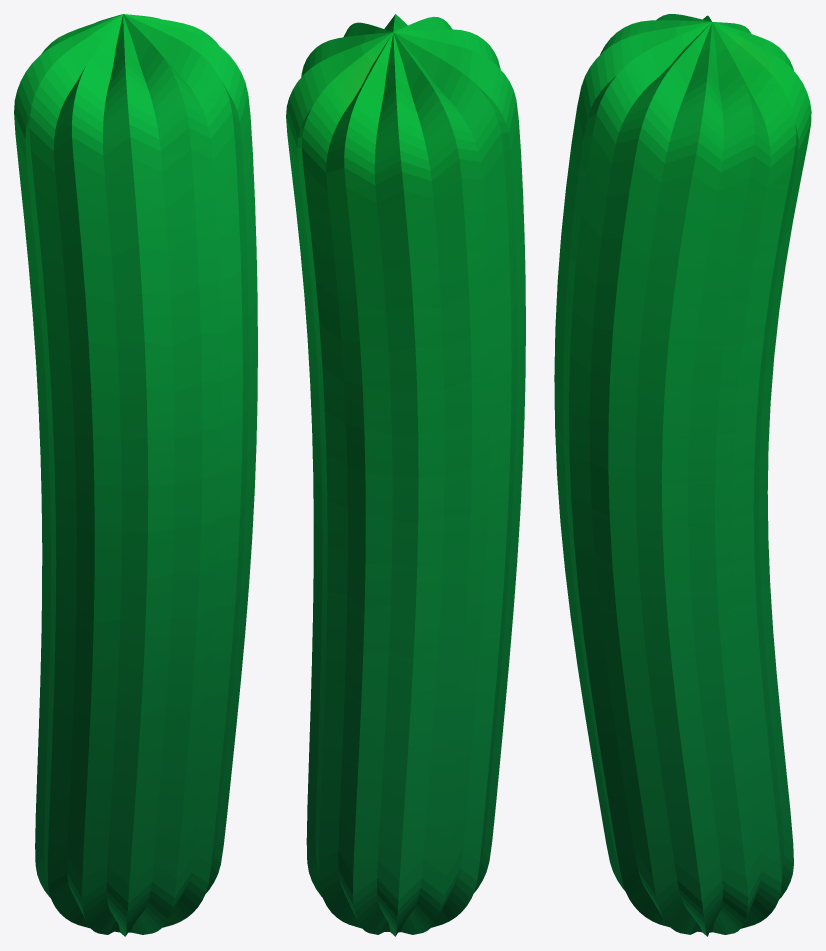
Rendered from SM_Env_Cactus_02.fbx.
3 views of the same model, side by side, from view 1: azimuth 30°, elevation 25°; view 2: azimuth 150°, elevation 25°; view 3: azimuth 270°, elevation 25° (orthographic).
Parts seen in each view (by area): view 1: SM_Env_Cactus_02; view 2: SM_Env_Cactus_02; view 3: SM_Env_Cactus_02.
Part boxes in pixels (left/top/right/bottom): SM_Env_Cactus_02: left=14, top=14, right=257, bottom=936; SM_Env_Cactus_02: left=286, top=14, right=525, bottom=936; SM_Env_Cactus_02: left=554, top=14, right=811, bottom=936.
Bounding box in the file's own units: 0.5064 × 2.15 × 0.5555.
Materials: 1 (1 with a texture image).
